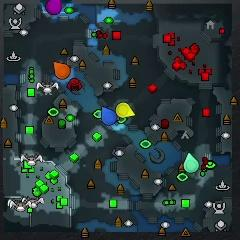p1: (101, 107, 115, 125)
p2: (184, 152, 199, 173)
p3: (46, 0, 63, 15)
p4: (115, 103, 135, 118)
p5: (53, 61, 71, 79)
